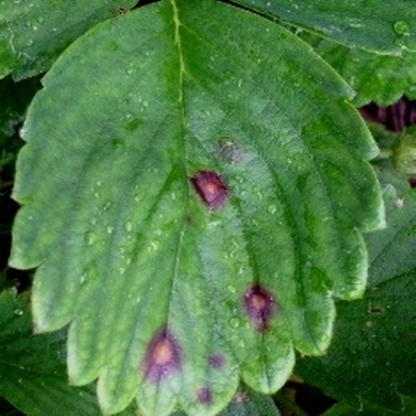Strawberry_Leaf_Spot: (6, 0, 388, 415)
